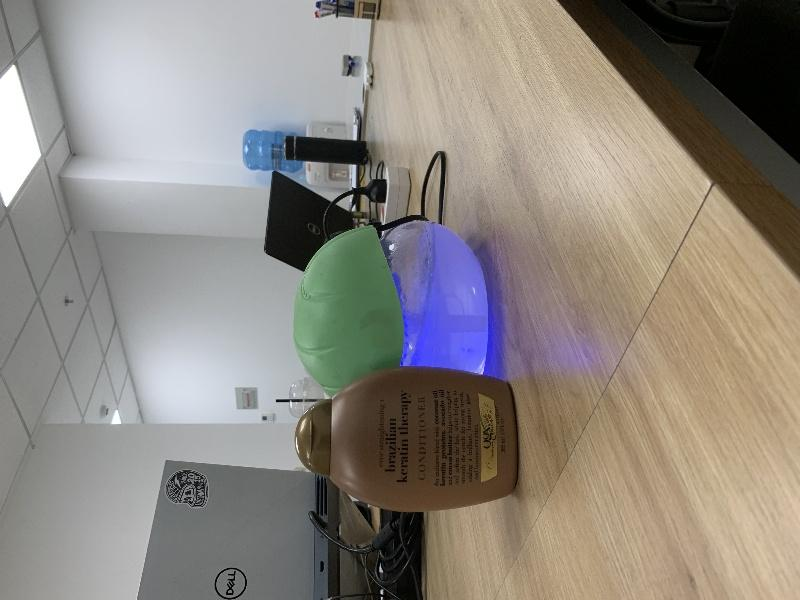BrazilianKerationTherapy_Conditioner: (294, 366, 520, 513)
